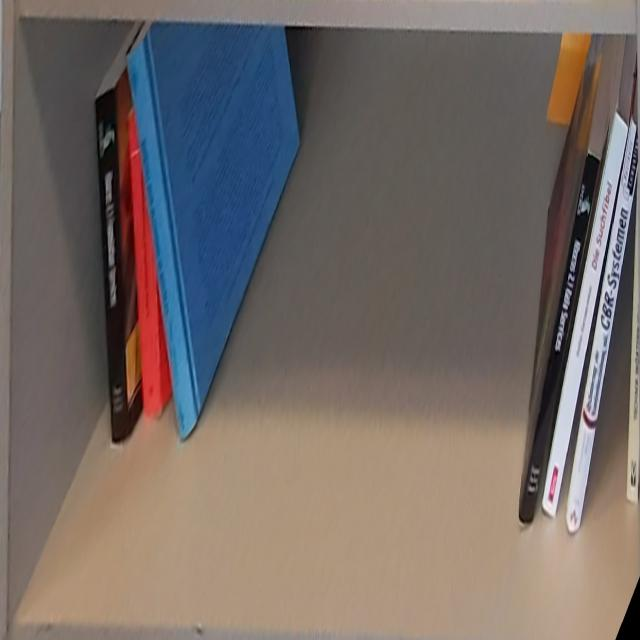Book Spine: (542, 110, 629, 520), (518, 154, 600, 526), (566, 118, 638, 534), (126, 37, 199, 440), (95, 86, 129, 443), (128, 111, 162, 418)
